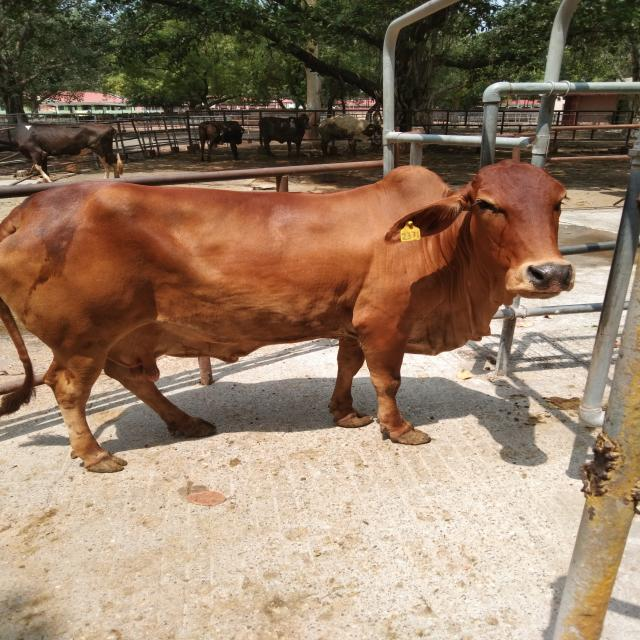1: (367, 165, 452, 186)
Hoof: (84, 454, 127, 473), (390, 428, 431, 445), (182, 418, 216, 438), (334, 413, 373, 428)
